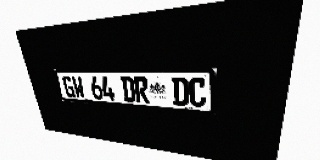4: (100, 76, 115, 101)
6: (89, 76, 104, 100)
C: (189, 77, 206, 107)
D: (172, 77, 188, 106), (120, 76, 136, 102)
G: (62, 76, 76, 98)
R: (133, 77, 150, 103)
W: (71, 76, 86, 98)
